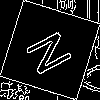N: (24, 24, 82, 78)
